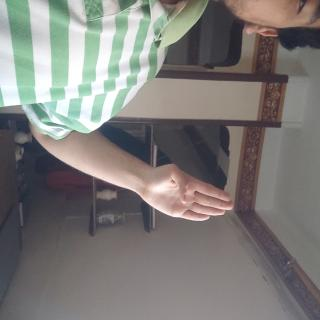KAAF: (117, 114, 168, 248)
